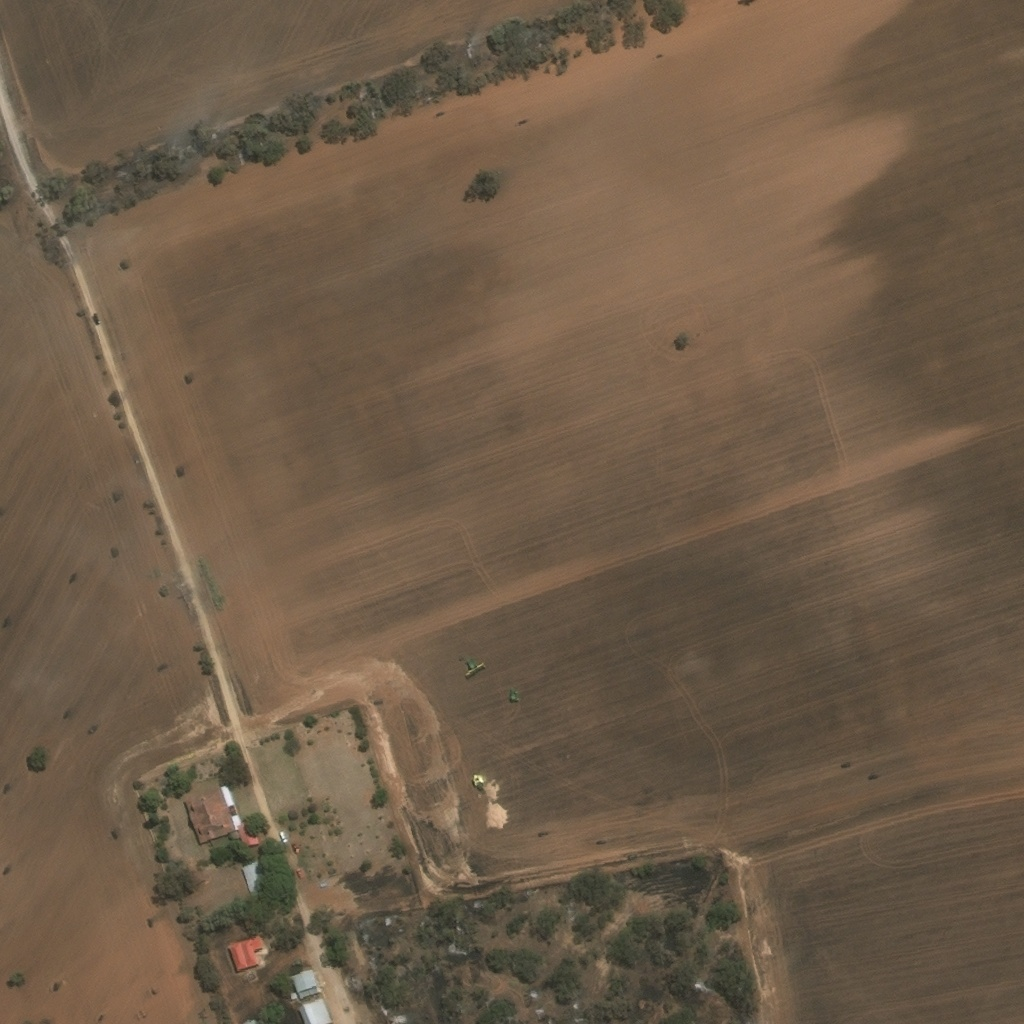0 no-damage: (186, 784, 243, 844), (228, 932, 265, 972), (241, 859, 271, 897), (298, 994, 334, 1023), (293, 967, 321, 1000), (238, 819, 261, 848)
